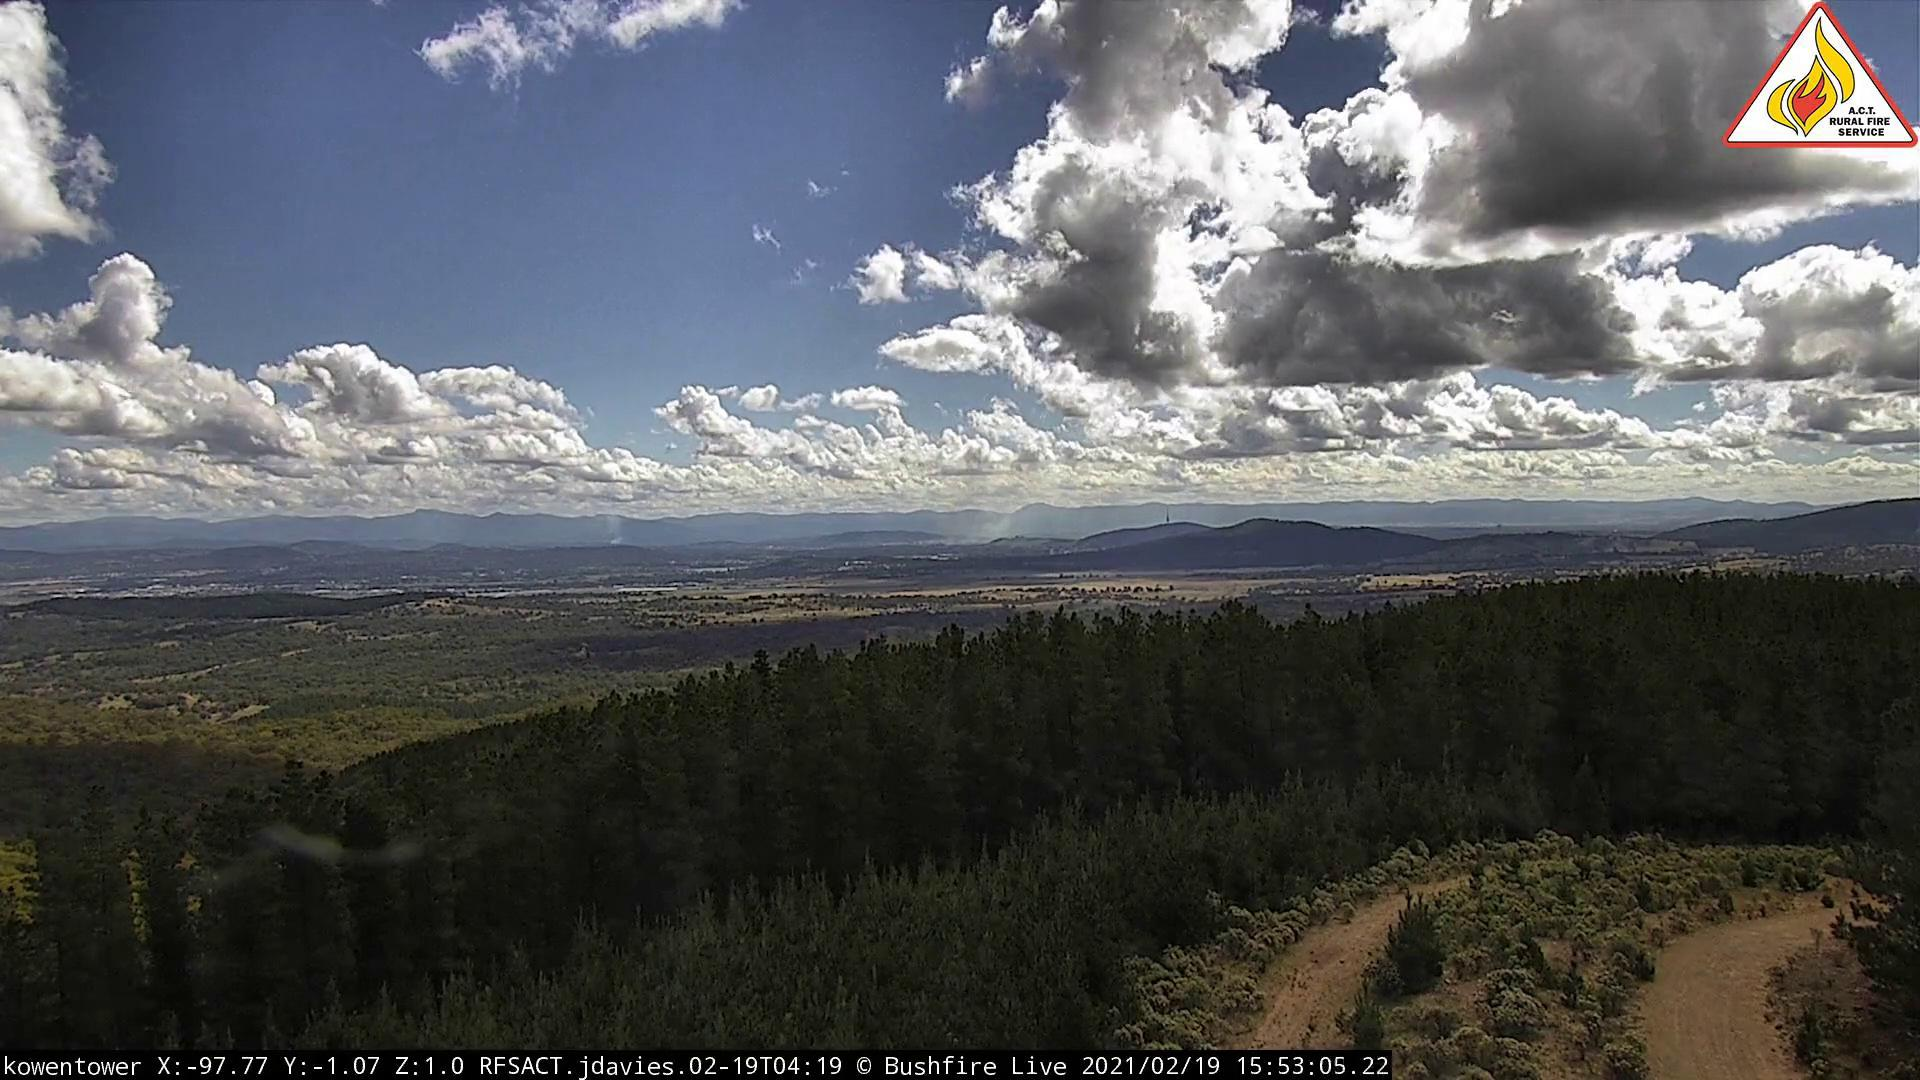Smoke: (949, 506, 1019, 551), (607, 526, 622, 554)
